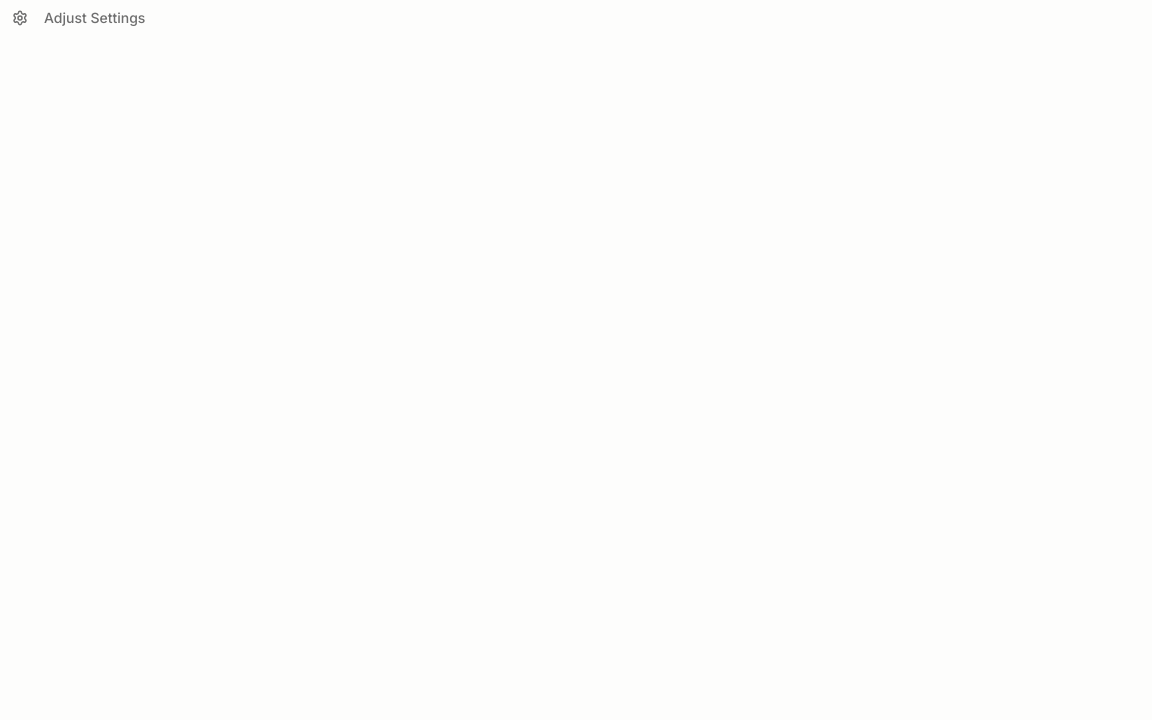
Test: FocusSettingsDialog › submits updated settings correctly
Later steps or results of the test are not shown.
Click the button "Adjust Settings" at (79, 18), box [0,0,157,36]
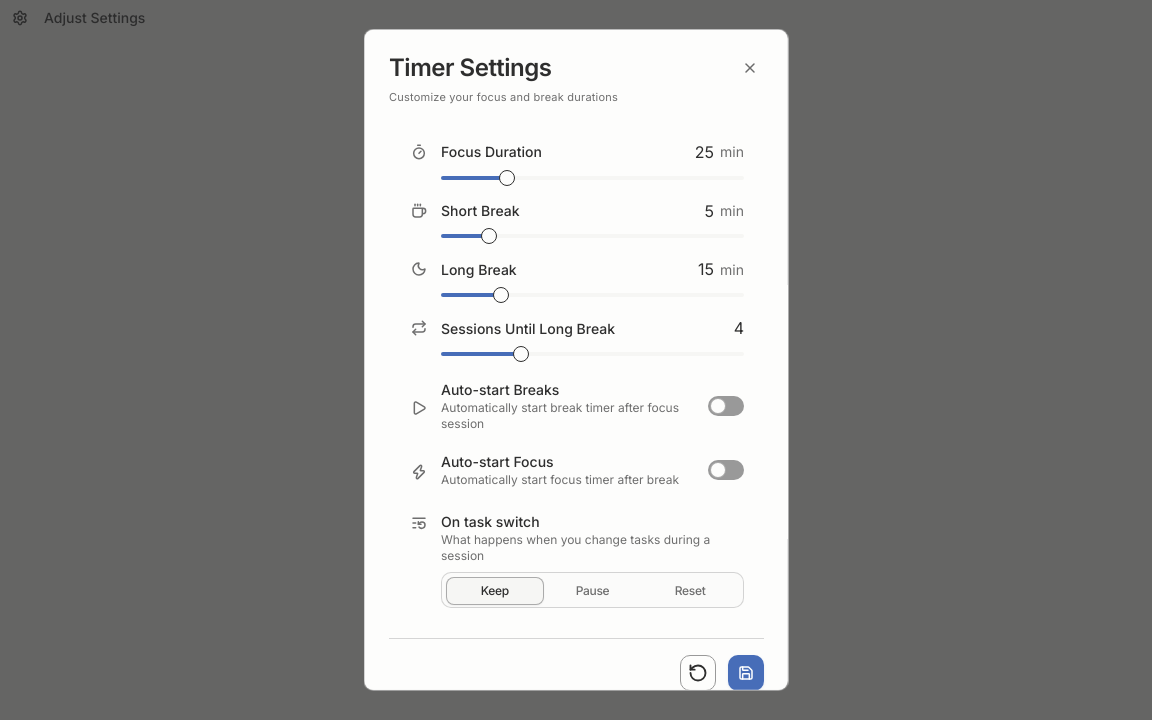
Replace the text in the number field named "Focus Duration" with "30" at (694, 152), box [674,140,714,163]
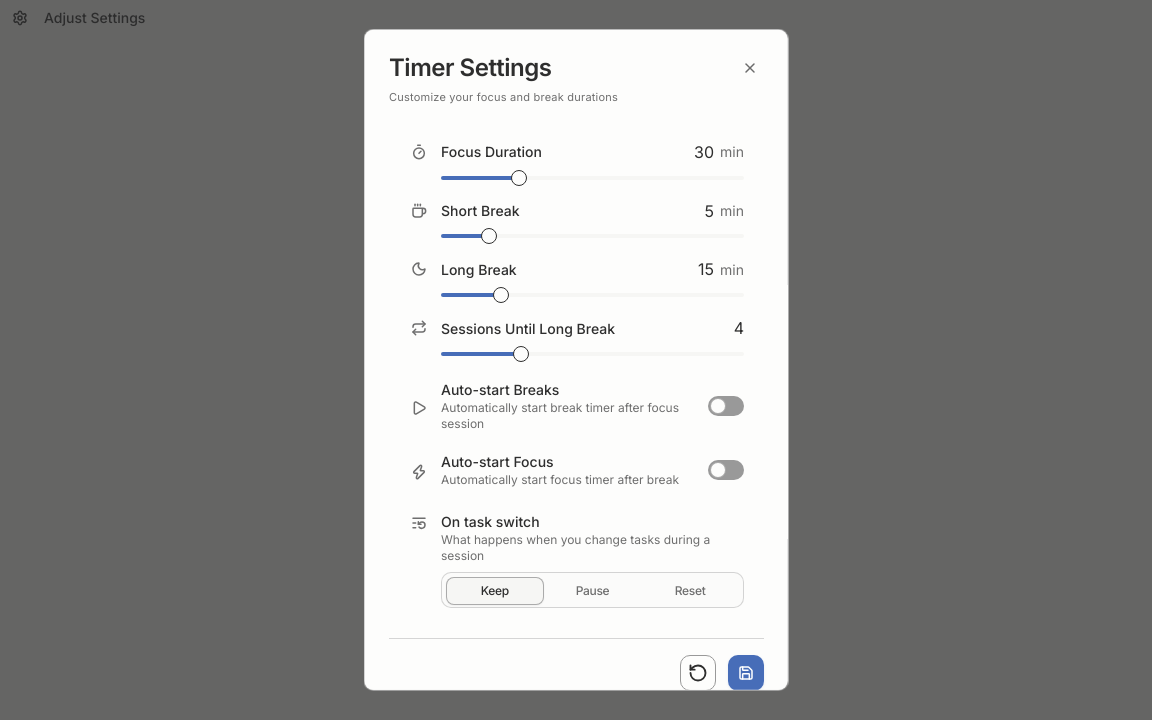
Now the button named "save changes" is enabled, box [728,655,764,691]
